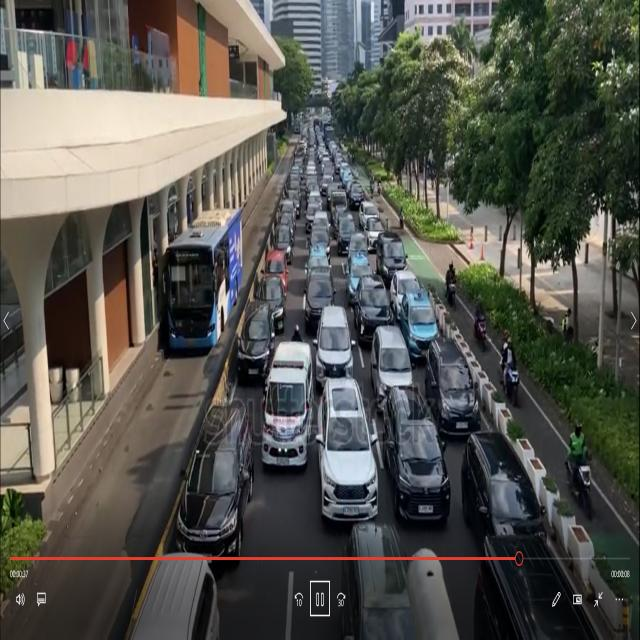Ambulance: (257, 331, 312, 484)
